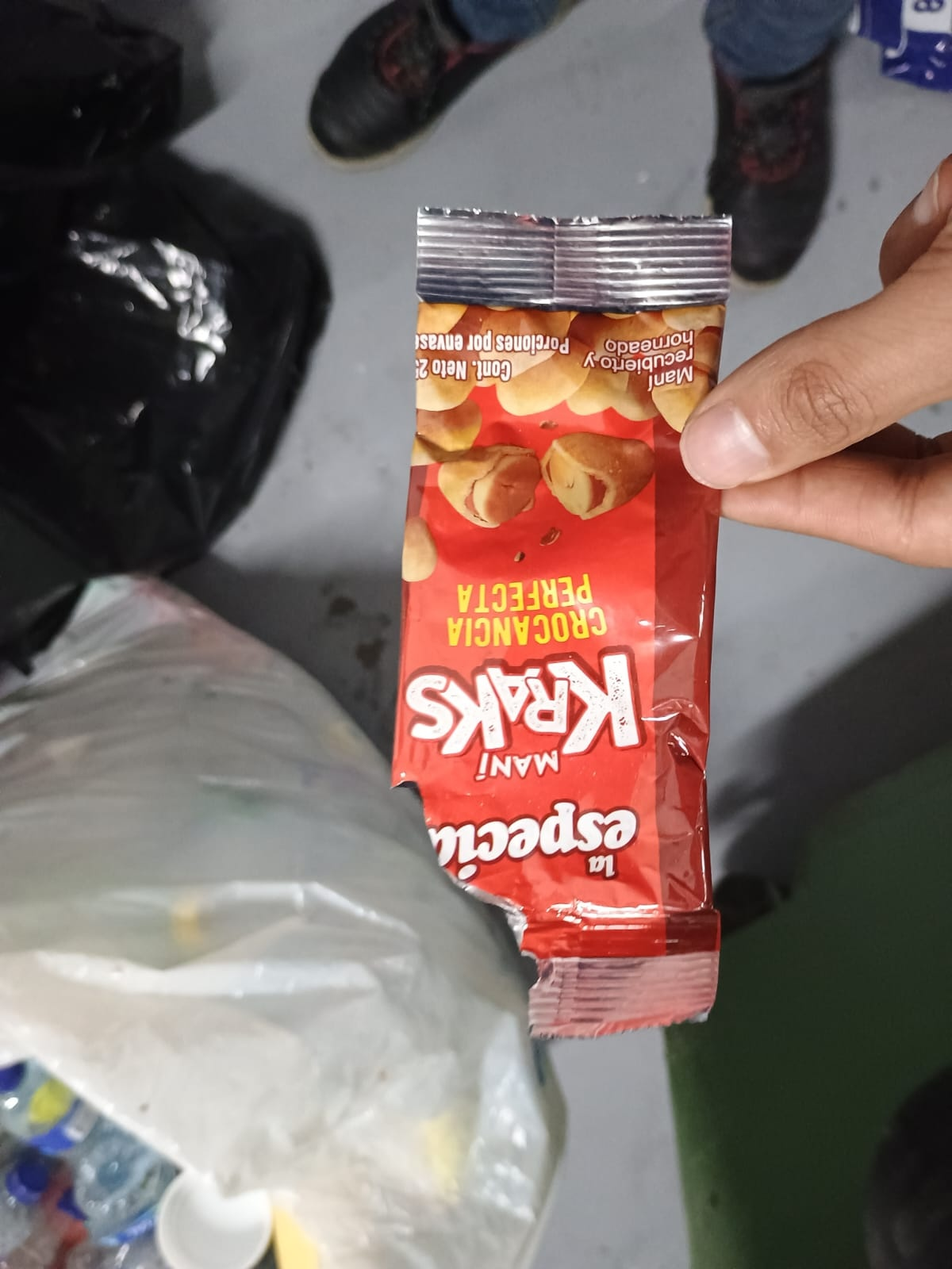Ordinario: (389, 205, 735, 1037)
